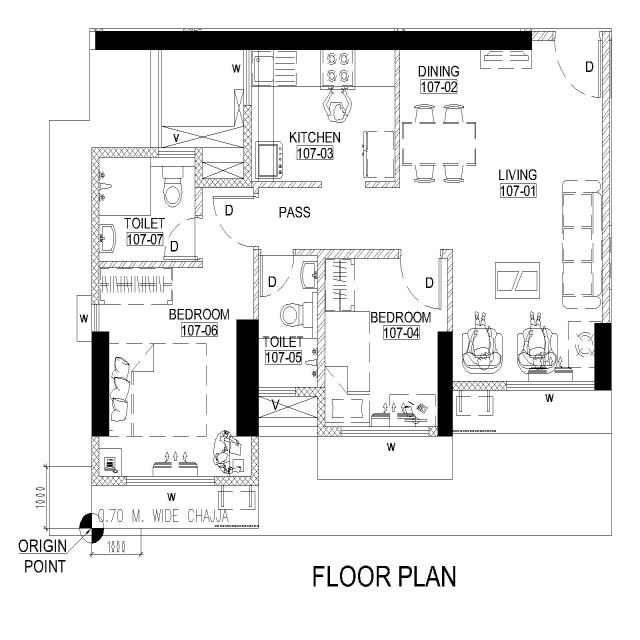Column: (94, 29, 536, 53), (234, 316, 263, 438), (90, 331, 110, 439), (436, 328, 454, 440), (593, 321, 613, 393)
Door: (553, 29, 602, 42), (399, 248, 442, 260), (194, 214, 204, 264), (253, 191, 260, 252), (257, 246, 295, 256)
Opening: (320, 180, 368, 190)
Ventilator: (256, 384, 297, 400), (157, 144, 197, 160)
Window: (506, 378, 597, 393), (339, 424, 430, 438), (124, 475, 216, 487), (242, 46, 254, 108), (90, 301, 102, 333)
